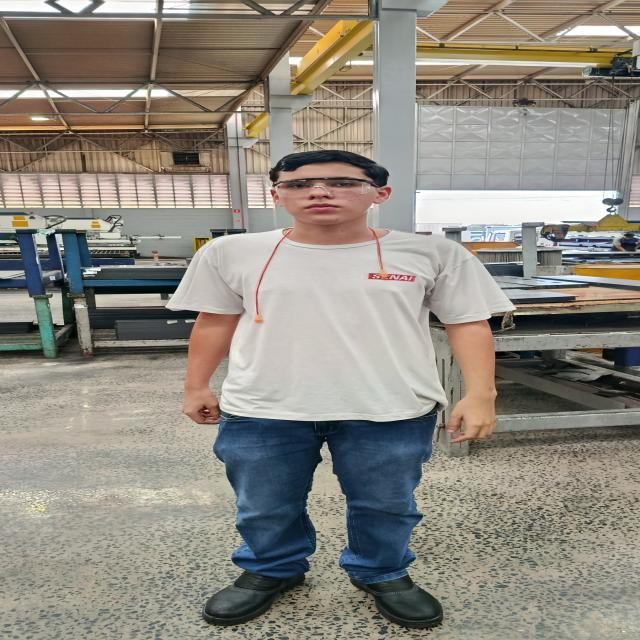oculos-epi: (273, 177, 378, 195)
